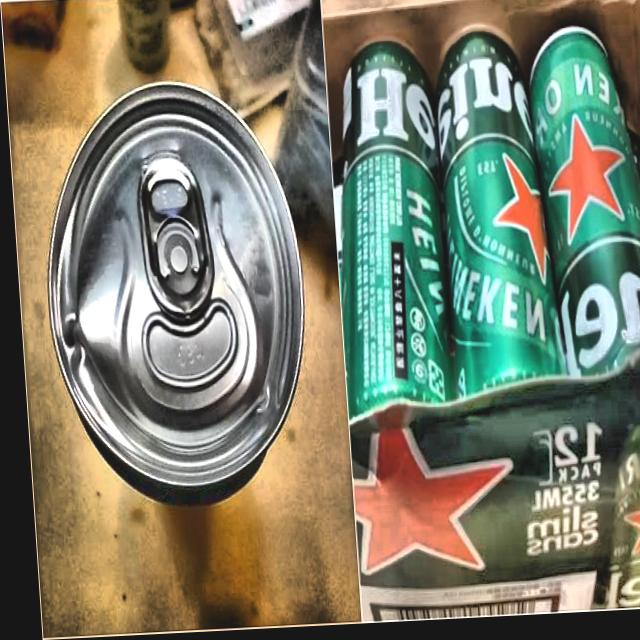can: (25, 70, 317, 522), (424, 18, 564, 418), (317, 41, 452, 439), (520, 17, 640, 397)
